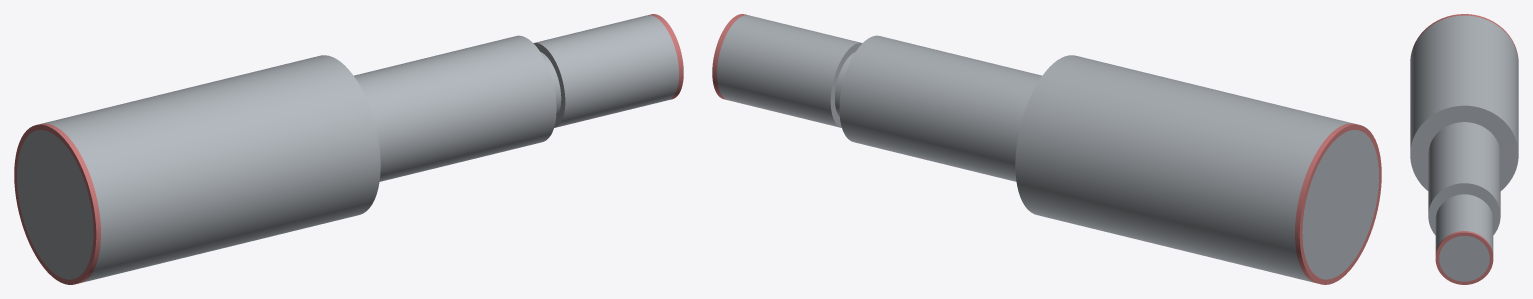
Rendered from step_04.glb.
3 views of the same model, side by side, from view 1: azimuth 30°, elevation 25°; view 2: azimuth 150°, elevation 25°; view 3: azimuth 270°, elevation 25° (orthographic). The views are drawn at different scales.
Visible parts, largest first — view 1: part__threaded shaft, removed__threaded shaft; view 2: part__threaded shaft, removed__threaded shaft; view 3: part__threaded shaft, removed__threaded shaft.
Part boxes in pixels (x1,y1,x2,y2): part__threaded shaft: (17, 15, 678, 282); removed__threaded shaft: (14, 14, 683, 284); part__threaded shaft: (717, 15, 1378, 282); removed__threaded shaft: (712, 14, 1381, 284); part__threaded shaft: (1410, 15, 1518, 281); removed__threaded shaft: (1410, 14, 1518, 284).
Bounding box in the file's own units: 128 × 29.99 × 29.98.
